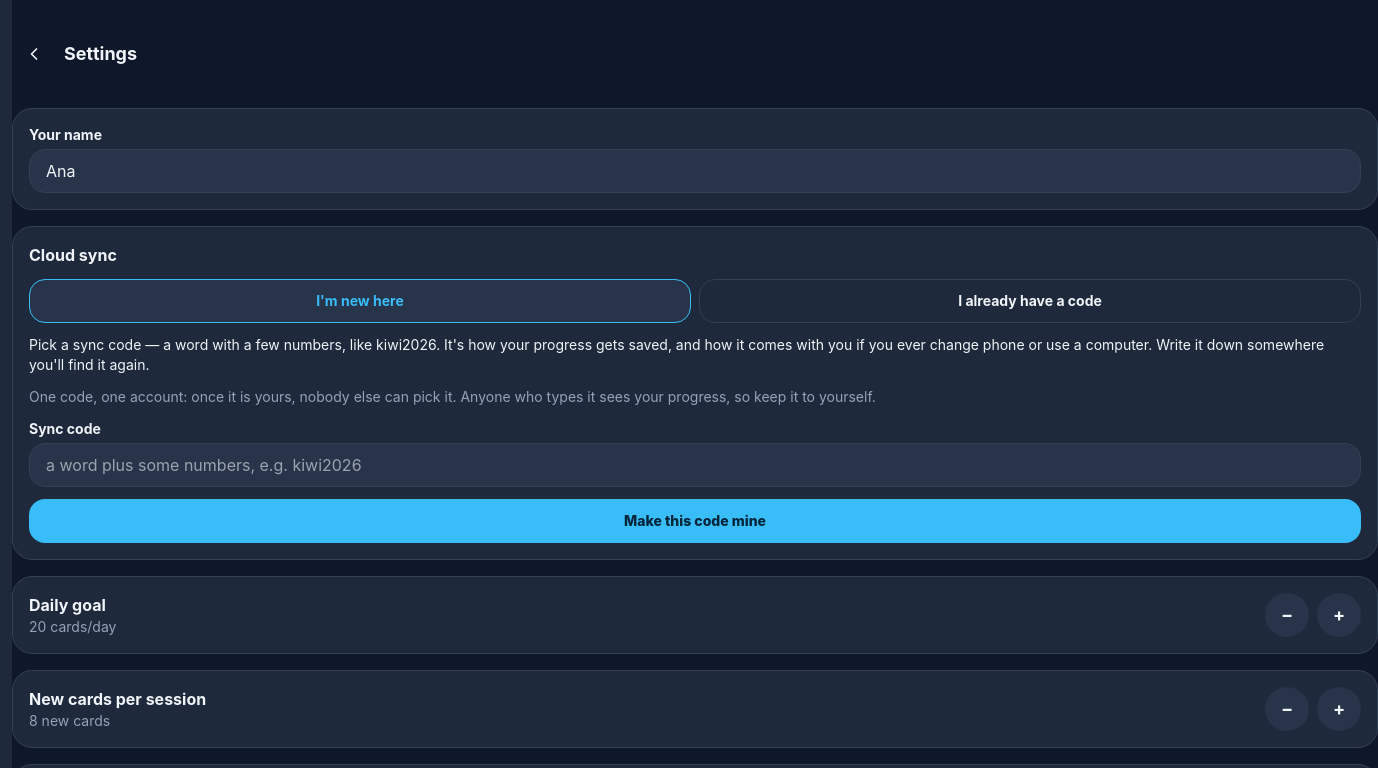
Settings with Supabase configured › shows a validation error for a bad code instead of submitting
The width and height of the screenshot is (1378, 768).
Click the radio button labelled "I'm new here". click: (360, 301)
box: x1=29 y1=279 x2=691 y2=323
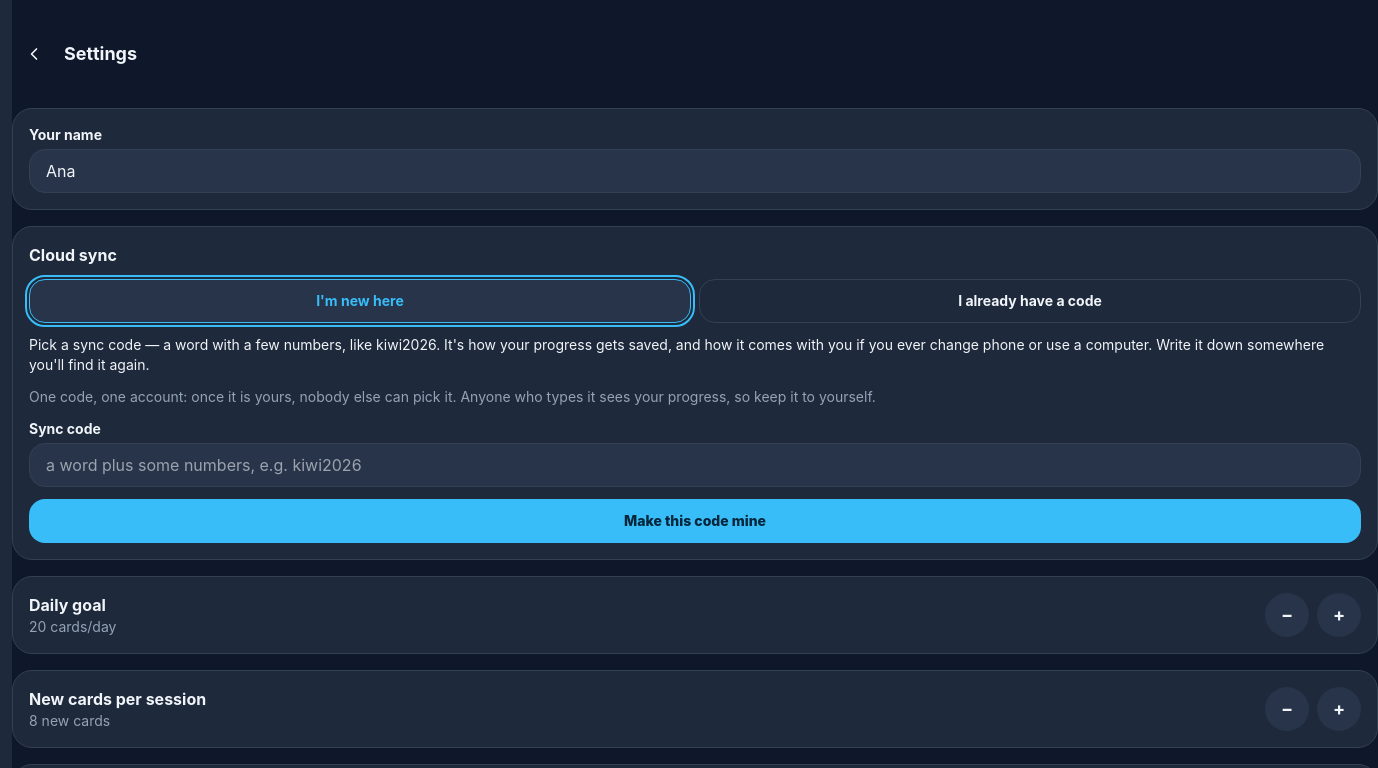
Type "123456" into the field labelled "Sync code". click: (695, 465)
box: x1=29 y1=443 x2=1361 y2=487
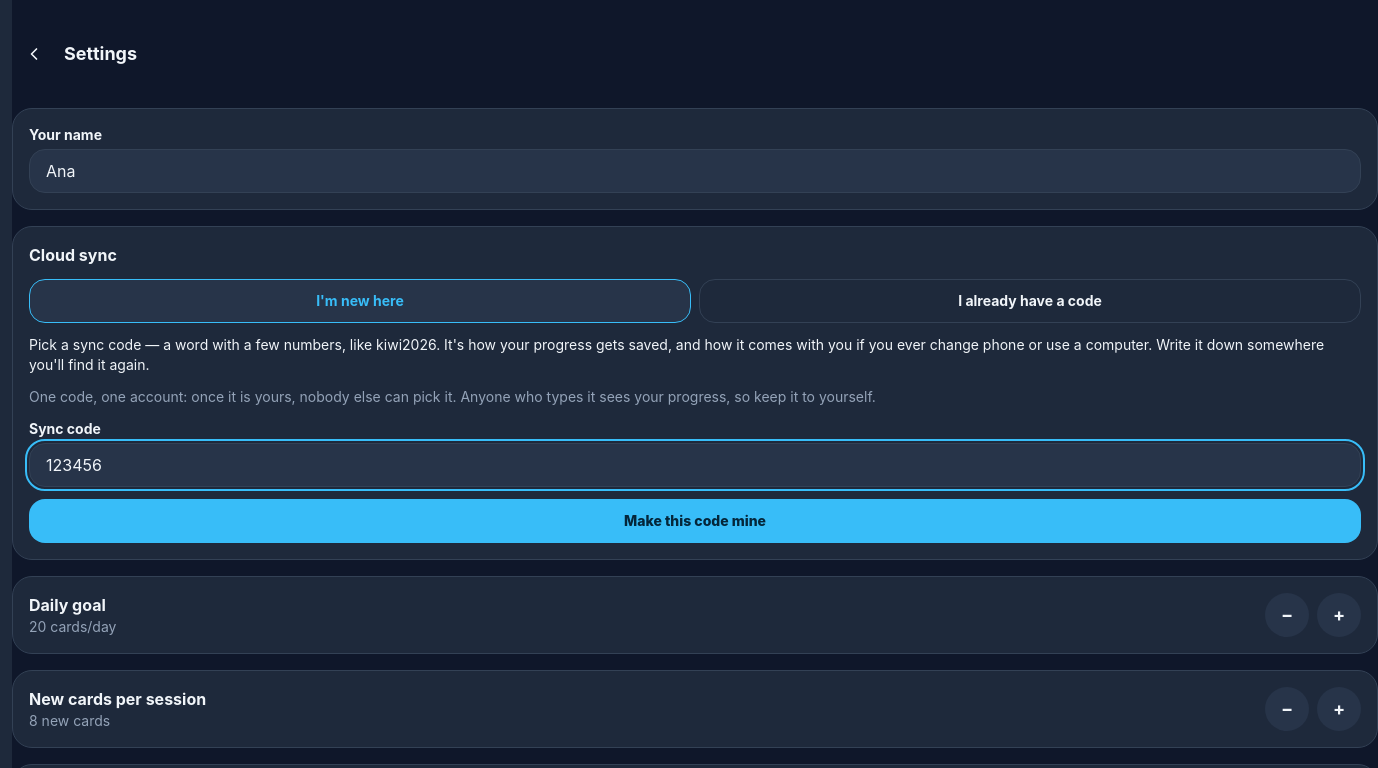
Click the button "Make this code mine". click: (695, 521)
box: x1=29 y1=499 x2=1361 y2=543
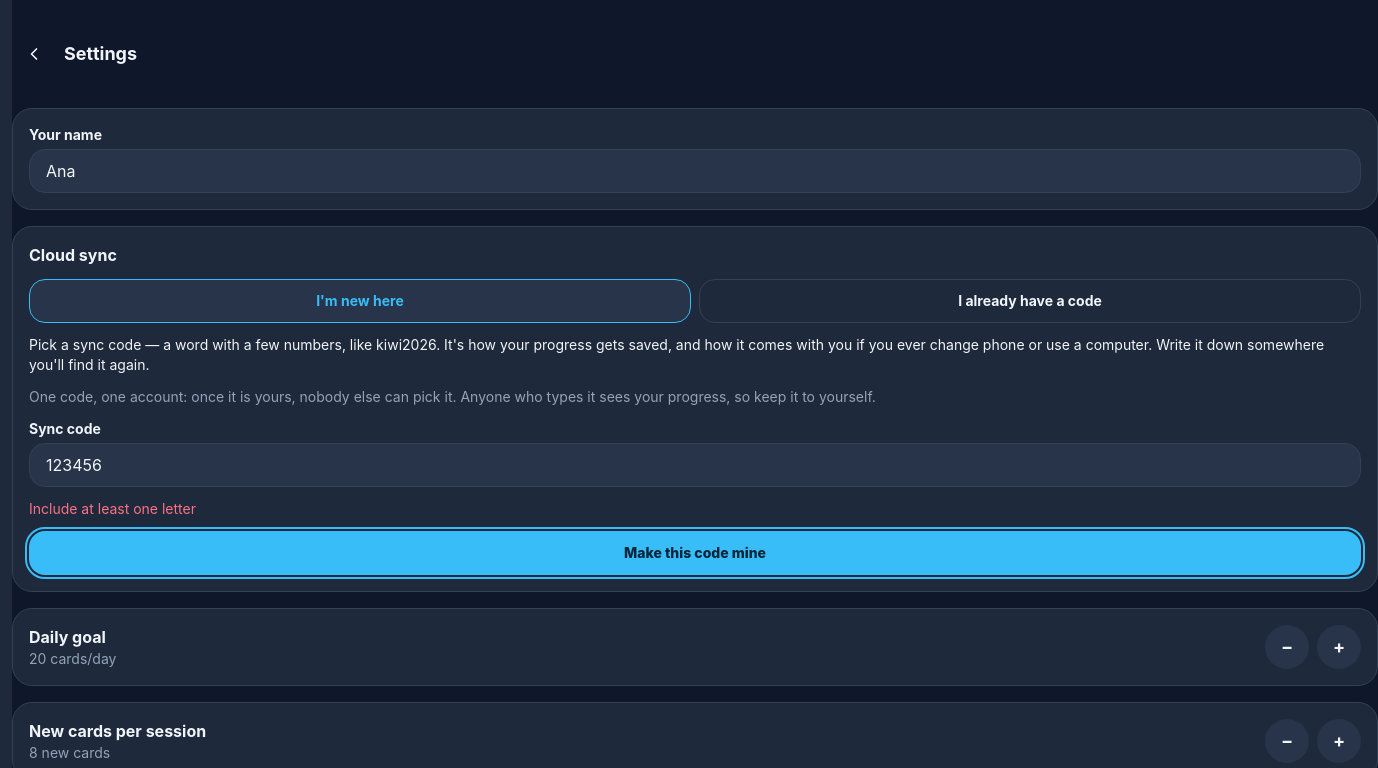
Check: the text "Include at least one letter" is shown, box x1=29 y1=500 x2=196 y2=517
